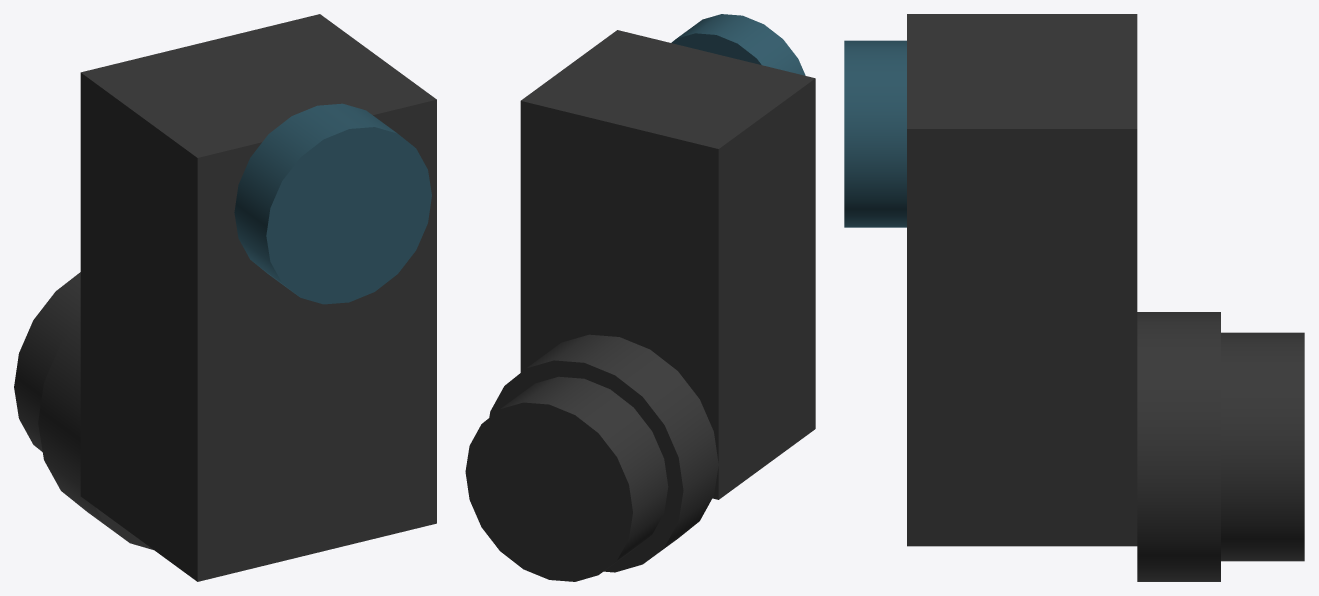
Rendered from ET-D3LEU100_ET-D3LEU101.glb.
The picture shows the model from 3 angles, left to right: view 1: azimuth 30°, elevation 25°; view 2: azimuth 150°, elevation 25°; view 3: azimuth 270°, elevation 25°; orthographic projection. The views are drawn at different scales.
Visible parts, largest first — view 1: Lens_Barrel, Lens_Glass; view 2: Lens_Barrel, Lens_Glass; view 3: Lens_Barrel, Lens_Glass.
Part boxes in pixels (<box>): Lens_Barrel: <box>14,14,436,581</box>; Lens_Glass: <box>234,103,431,304</box>; Lens_Barrel: <box>465,30,815,581</box>; Lens_Glass: <box>671,14,805,75</box>; Lens_Barrel: <box>907,14,1304,581</box>; Lens_Glass: <box>844,40,906,227</box>.
Bounding box in the file's own units: 0.1755 × 0.3712 × 0.297.
